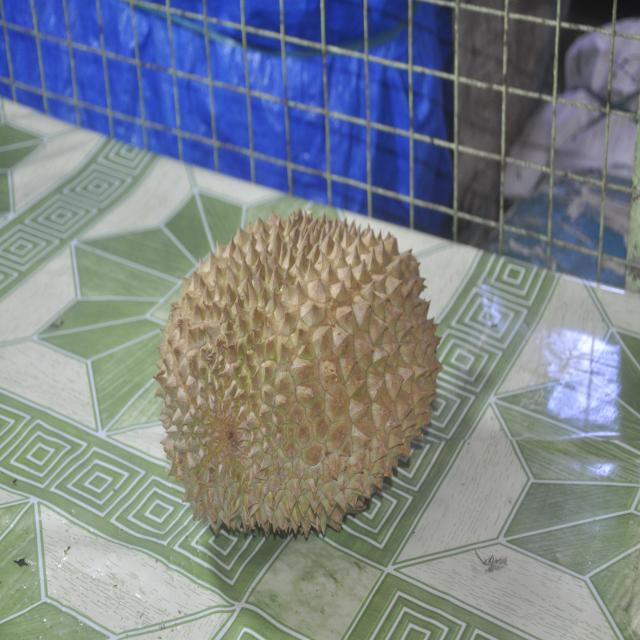mature: (155, 210, 442, 536)
